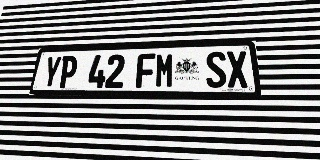2: (105, 54, 125, 88)
4: (87, 55, 108, 88)
F: (136, 53, 155, 88)
M: (155, 53, 174, 88)
P: (57, 56, 78, 88)
S: (205, 51, 227, 88)
X: (226, 51, 249, 88)
Y: (41, 56, 62, 88)
